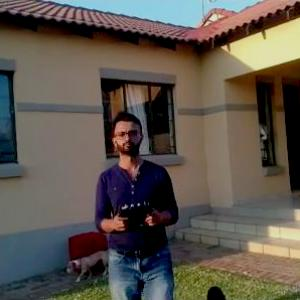follow: (90, 108, 183, 299)
null: (61, 246, 108, 285)
